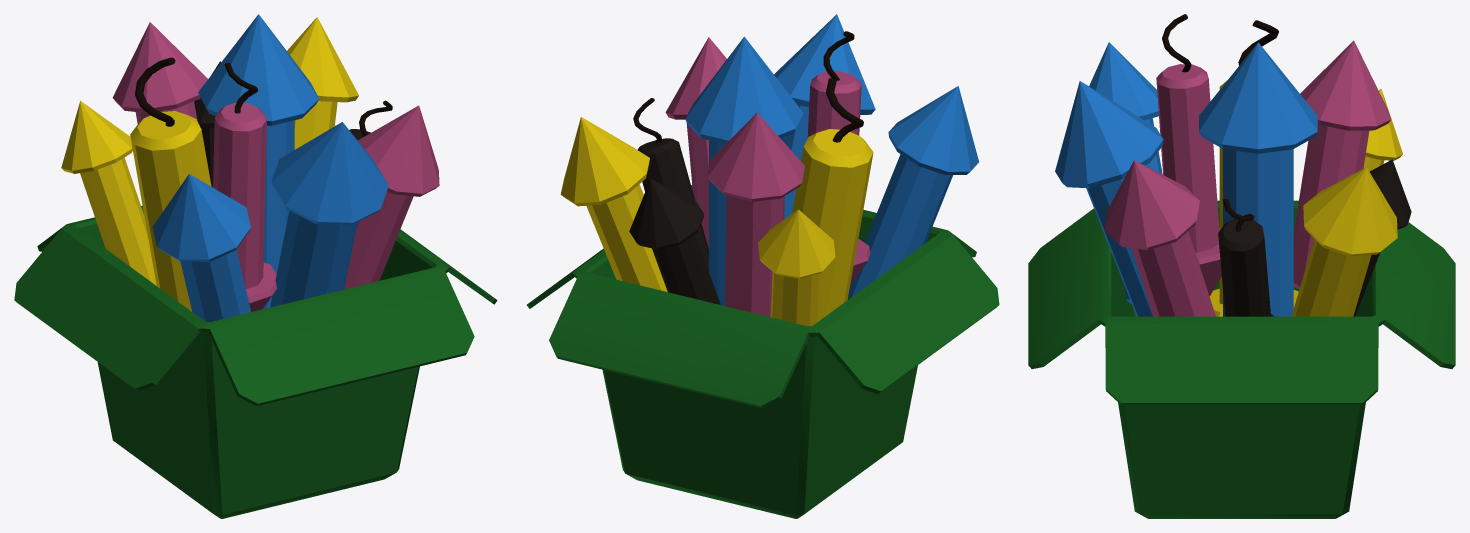
The model's file is Firework.FBX.
3 renders of one model, left to right at view 1: azimuth 30°, elevation 25°; view 2: azimuth 150°, elevation 25°; view 3: azimuth 270°, elevation 25°, orthographic. The views are drawn at different scales.
Parts seen in each view (by area): view 1: Firework; view 2: Firework; view 3: Firework.
Part boxes in pixels (x1,y1,x2,y2): Firework: (14, 14, 497, 518); Firework: (527, 14, 999, 518); Firework: (1028, 14, 1455, 518).
Bounding box in the file's own units: 946 × 966 × 1102.
